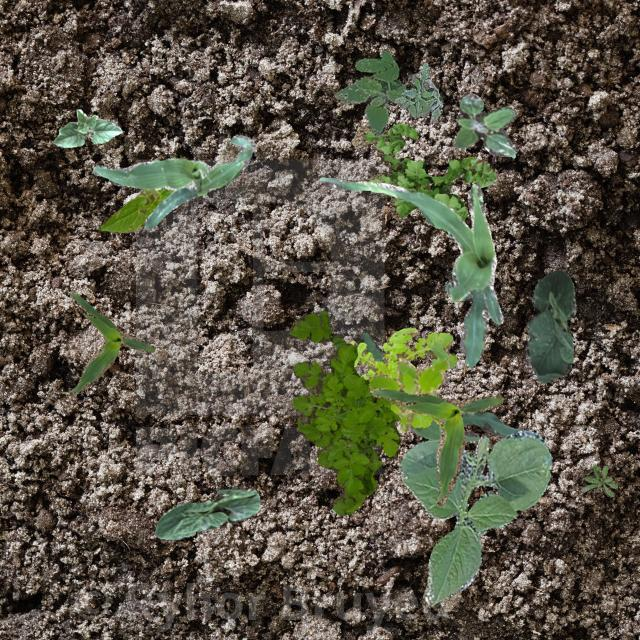crop: (318, 177, 502, 366), (398, 430, 550, 604), (360, 332, 522, 442), (368, 386, 502, 506), (92, 134, 255, 228), (68, 290, 154, 396), (524, 268, 576, 382), (153, 486, 260, 538), (100, 188, 172, 232), (52, 108, 120, 146)
weed: (288, 310, 400, 514), (351, 123, 496, 220), (346, 326, 456, 426), (332, 51, 406, 136), (368, 356, 448, 431), (450, 92, 516, 156), (392, 62, 440, 122), (580, 464, 616, 496)
